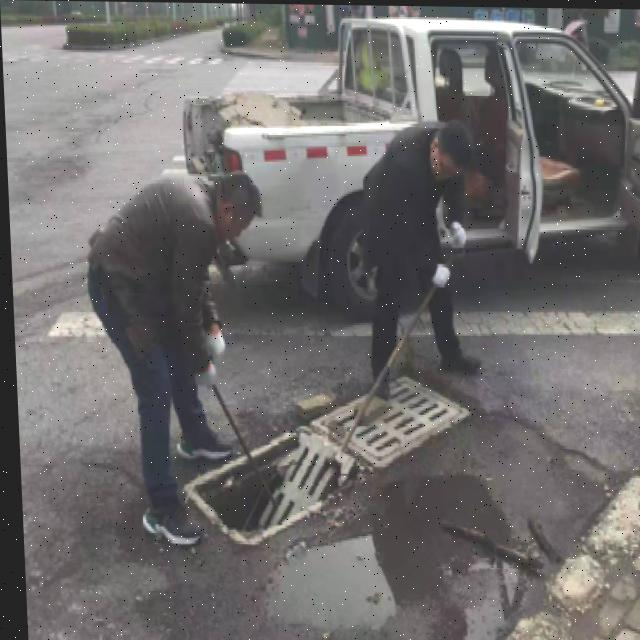manhole: (181, 366, 452, 532)
